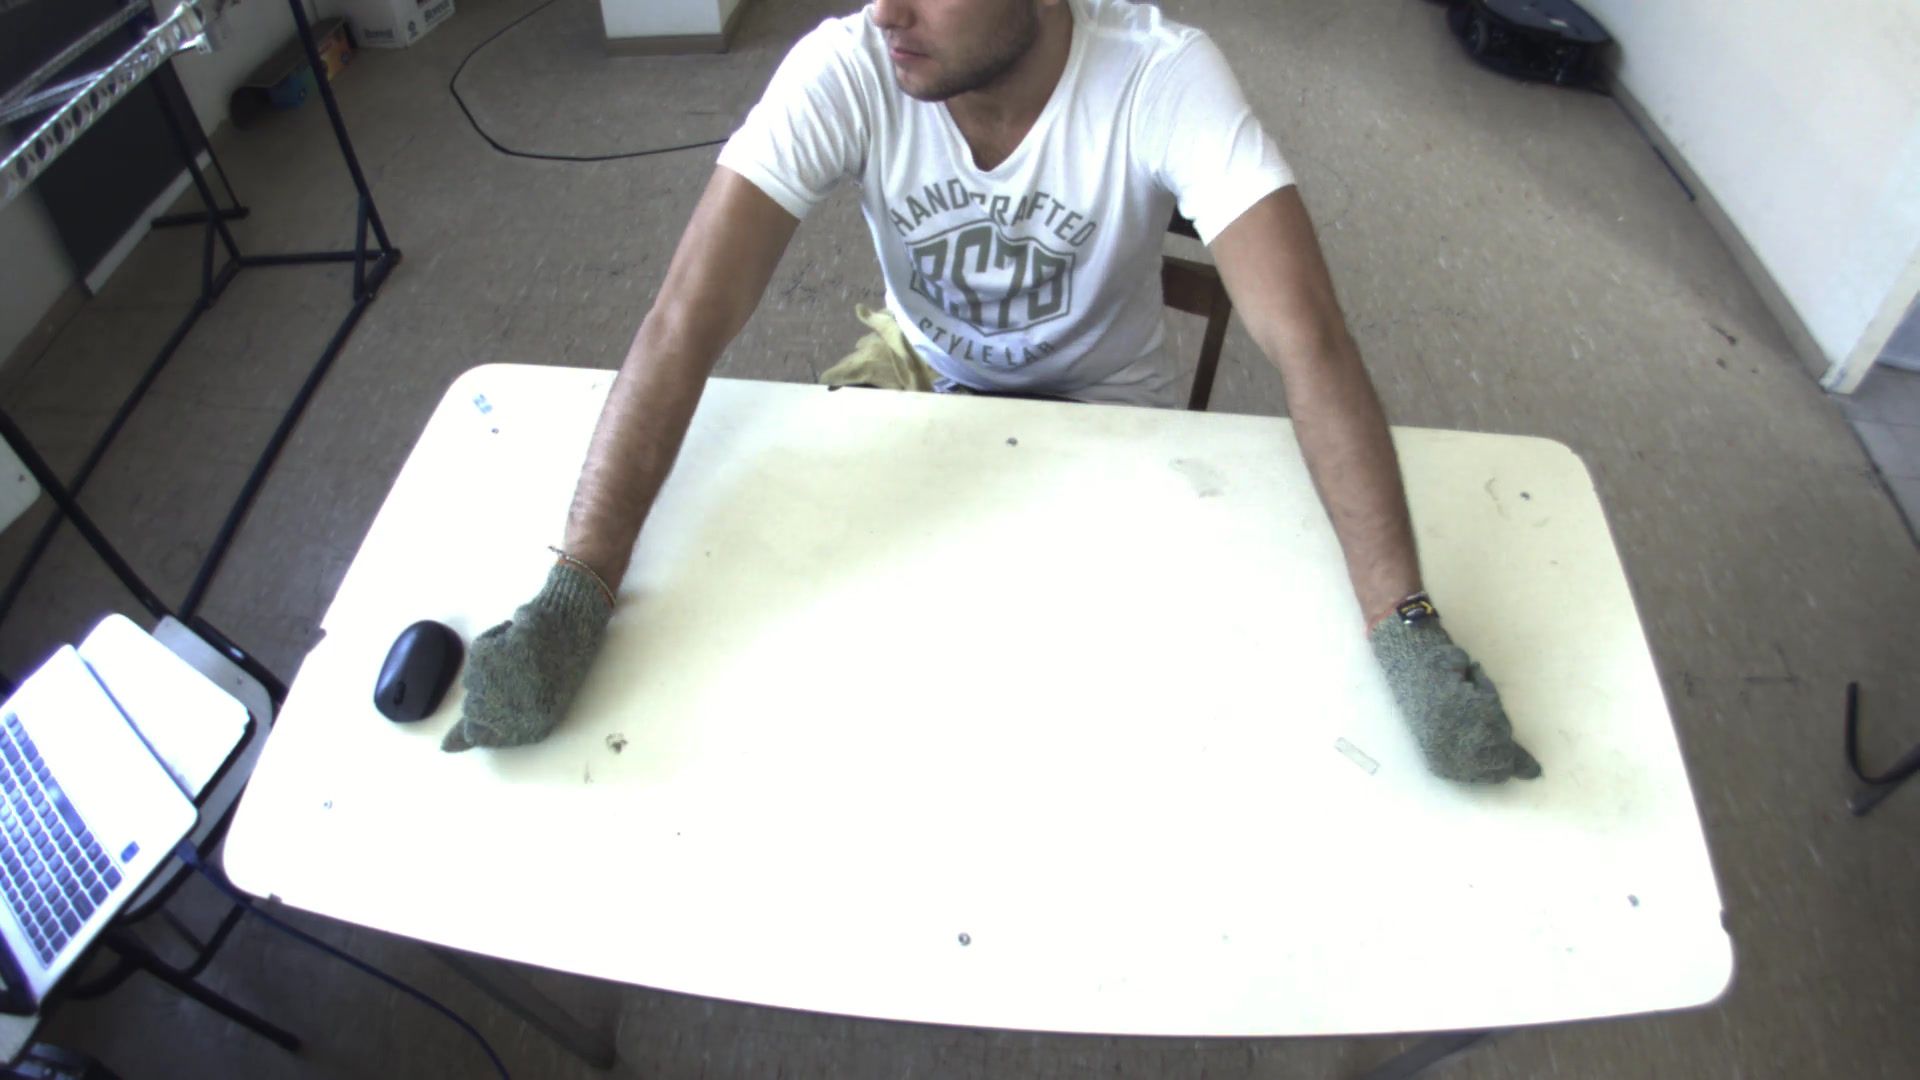hand: (442, 553, 625, 756), (1375, 617, 1538, 785)
